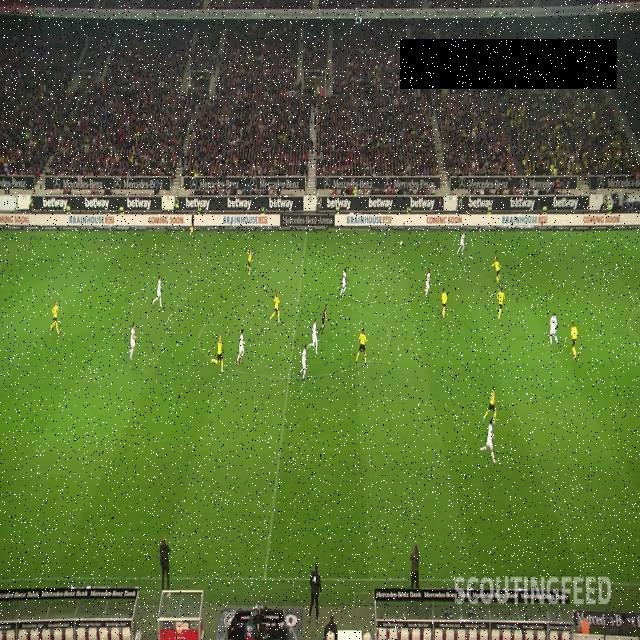Ball: (399, 240, 403, 247)
Referee: (320, 303, 328, 334), (190, 211, 194, 233)
TEAM 1: (482, 385, 497, 423), (210, 334, 224, 374), (354, 326, 368, 364), (269, 290, 281, 324), (50, 300, 61, 334), (496, 286, 506, 320), (490, 256, 502, 284), (570, 320, 578, 360), (440, 287, 448, 319), (245, 248, 252, 276)
TEAM 2: (479, 416, 499, 464), (308, 317, 320, 355), (548, 311, 560, 347), (152, 274, 164, 308), (128, 322, 138, 360), (237, 328, 246, 364), (300, 344, 308, 381), (339, 268, 349, 296), (424, 268, 432, 298), (456, 232, 466, 254)
